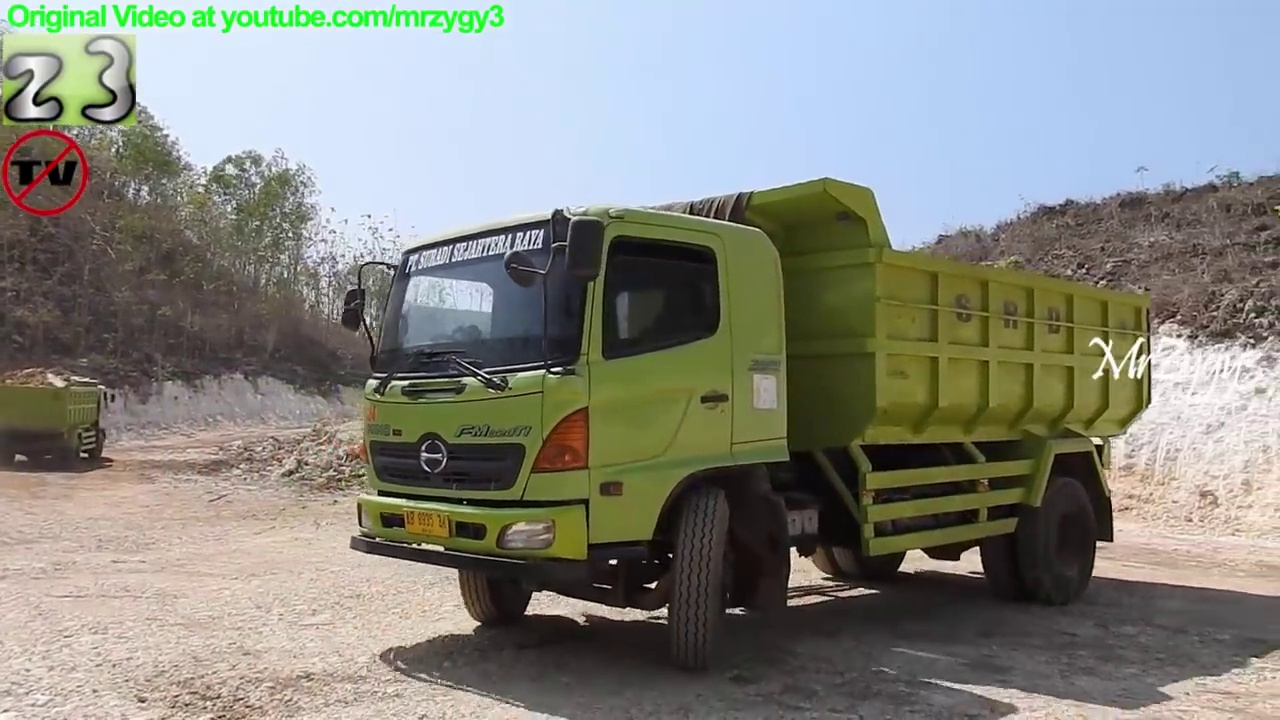truck: (336, 171, 1161, 679), (1, 371, 119, 474)
